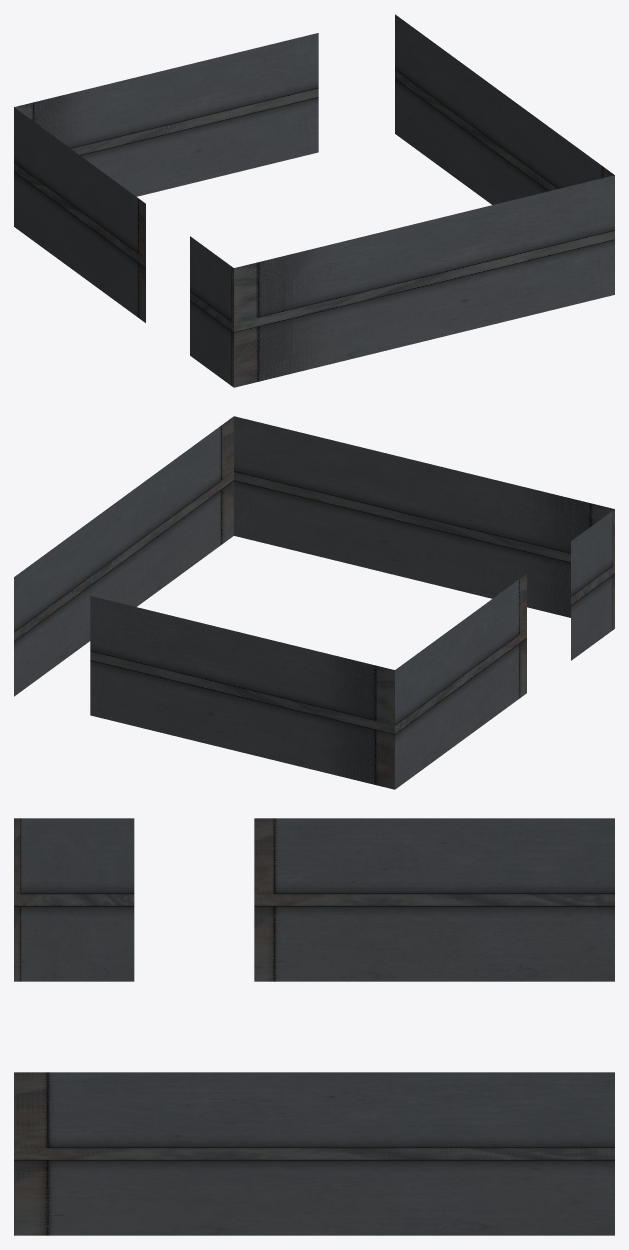
Rendered from Stage2.obj.
3 renders of one model, top to bottom at view 1: azimuth 30°, elevation 25°; view 2: azimuth 150°, elevation 25°; view 3: azimuth 270°, elevation 25°, orthographic. The views are drawn at different scales.
Parts seen in each view (by area): view 1: Cube.003, Cube.005, Cube.002, Cube.004, Cube.001; view 2: Cube.003, Cube.005, Cube.002, Cube.004, Cube.001; view 3: Cube.002, Cube.004, Cube.001.
Part boxes in pixels (x1,y1,x2,y2): Cube.003: [234, 175, 614, 387]; Cube.005: [14, 33, 318, 196]; Cube.002: [395, 14, 614, 204]; Cube.004: [14, 107, 145, 322]; Cube.001: [190, 236, 233, 387]; Cube.003: [234, 416, 614, 617]; Cube.005: [90, 596, 394, 789]; Cube.002: [14, 416, 233, 696]; Cube.004: [395, 574, 526, 789]; Cube.001: [571, 509, 614, 660]; Cube.002: [14, 1072, 614, 1235]; Cube.004: [254, 818, 614, 981]; Cube.001: [14, 818, 134, 981].
Bounding box in the file's own units: 20 × 6 × 20.
5 materials, 5 textured.
